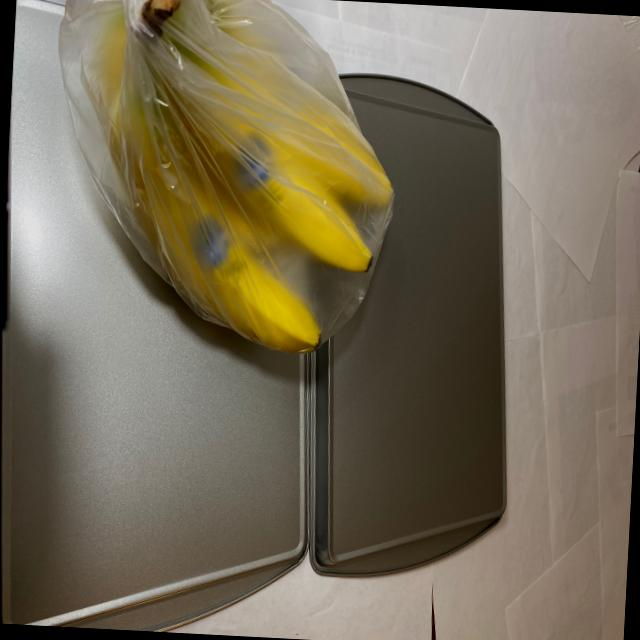banana: (71, 0, 408, 366)
